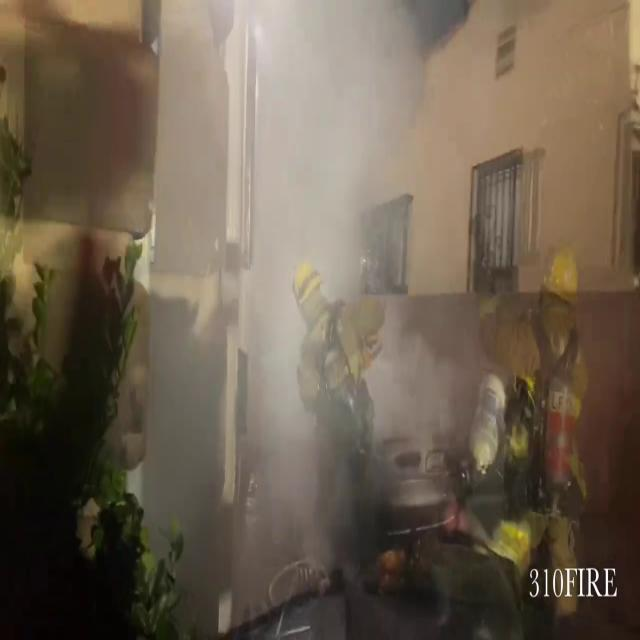Smoke: (130, 0, 483, 621)
